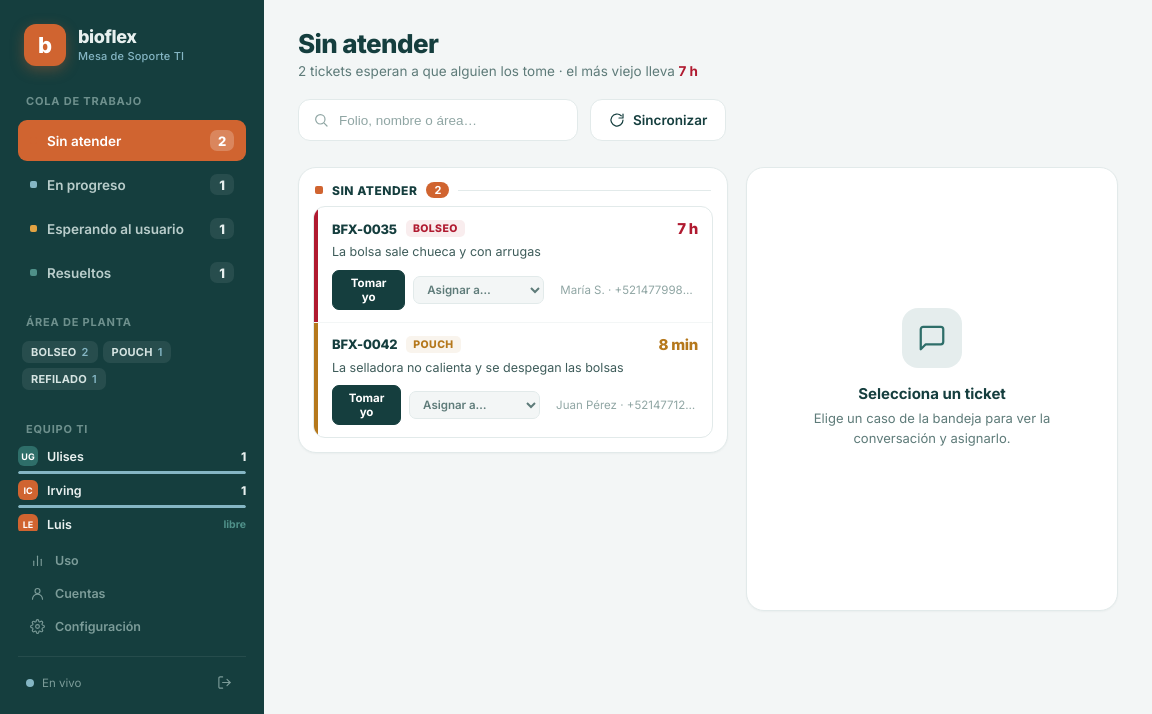
Test: en el detalle, «Usuario» dice quién es y debajo su contacto
Expected: the element with class "bf-fila" that starts with "BFX-0035" is shown, [314,207,712,322]
Click the element with class "bf-fila" that starts with "BFX-0042" at (365, 344), box [314,322,712,437]
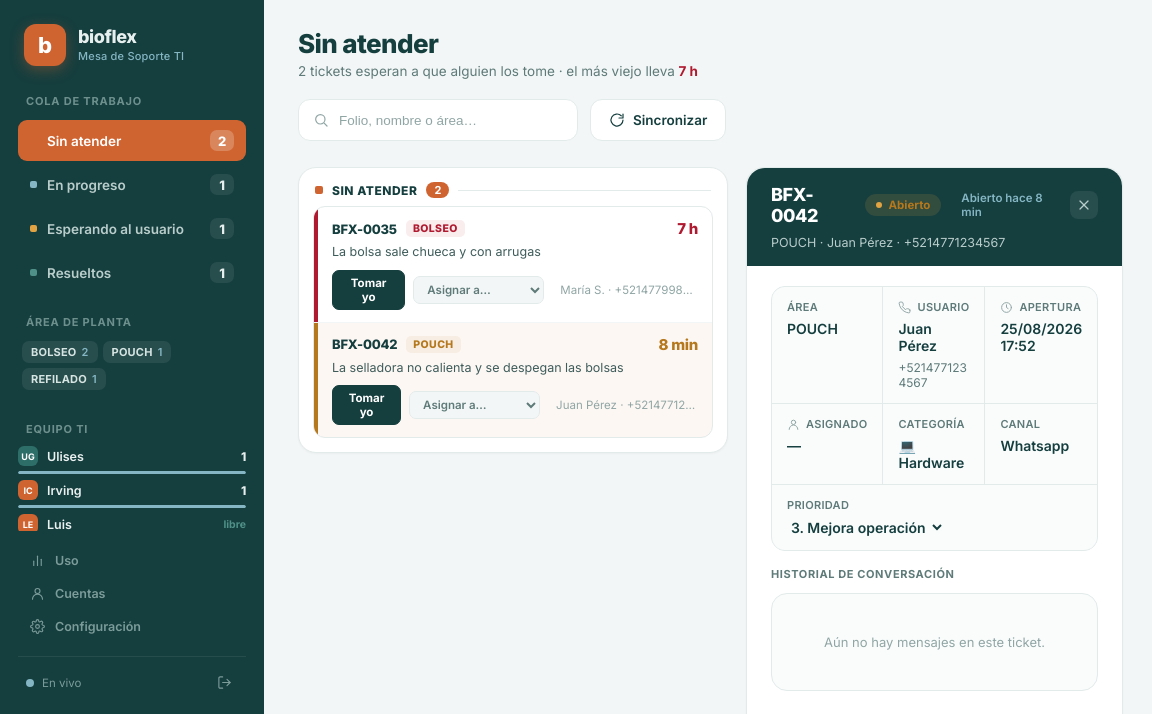
Now the text with class "bf-meta-v" reads "Juan Pérez", box [898,320,937,354]
Now the text with class "bf-meta-sub" reads "+5214771234567", box [898,360,967,390]
